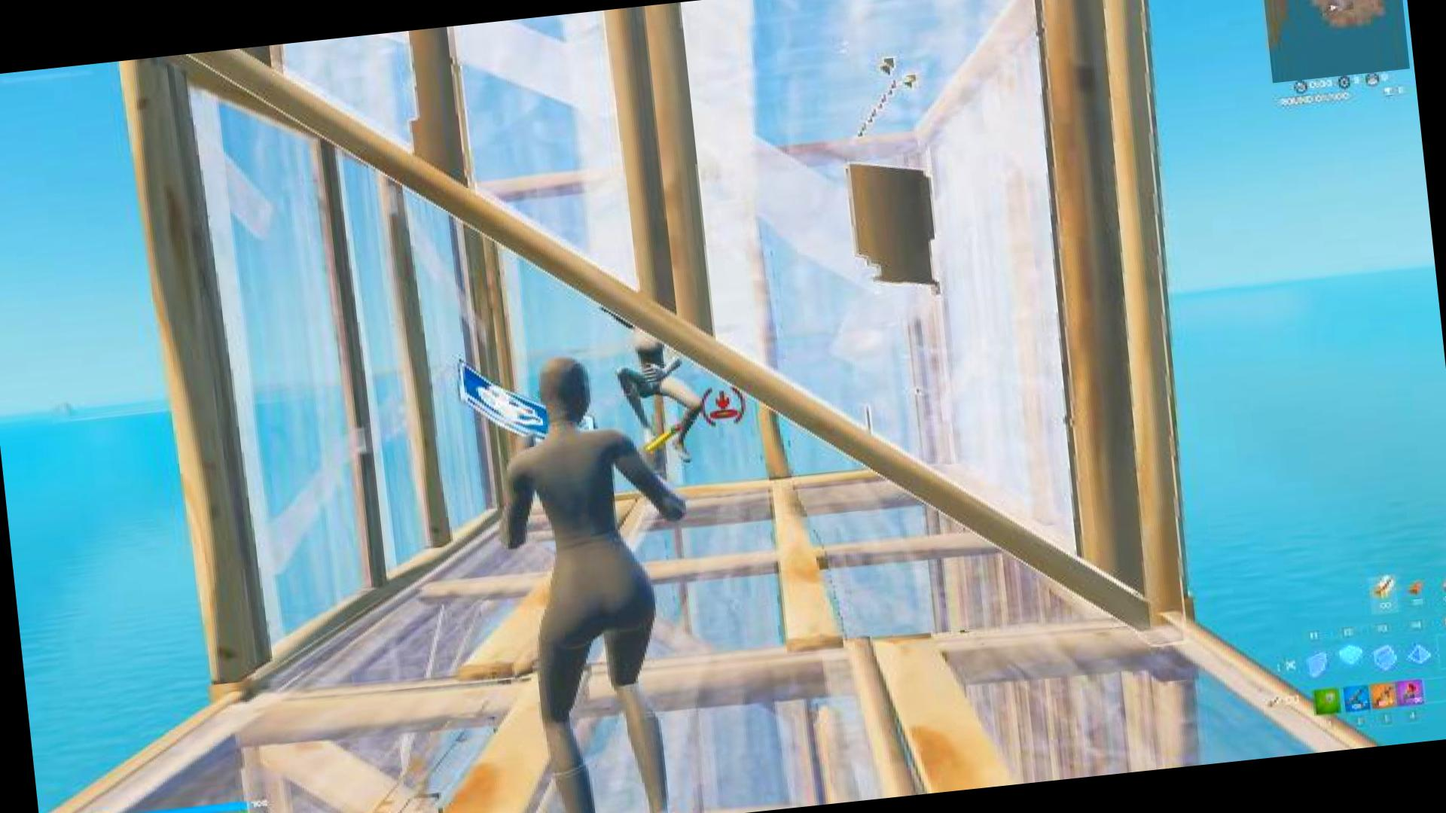player: (579, 320, 737, 466)
